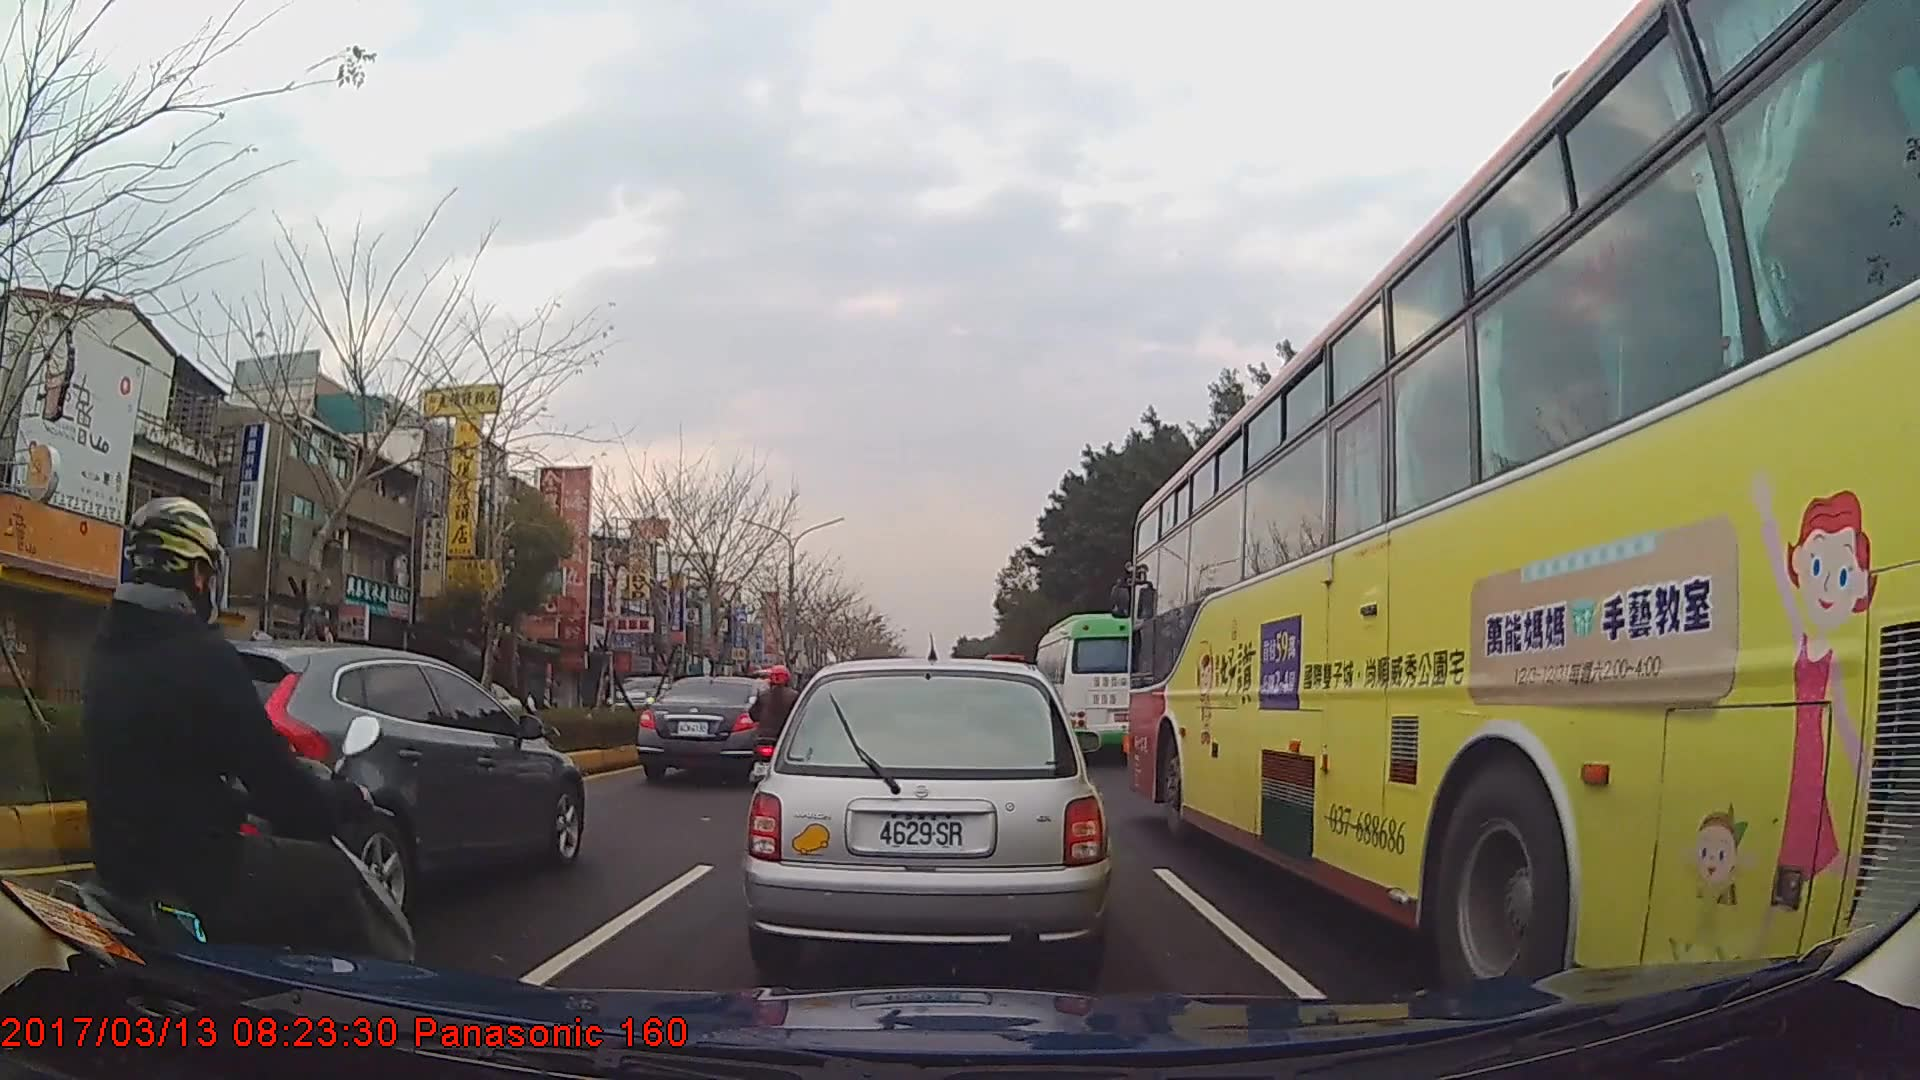rider: (66, 488, 415, 1017), (750, 665, 809, 800)
vehicle: (1127, 0, 1920, 1013), (87, 635, 584, 923), (745, 654, 1111, 978), (637, 673, 793, 786), (1026, 611, 1150, 752)
